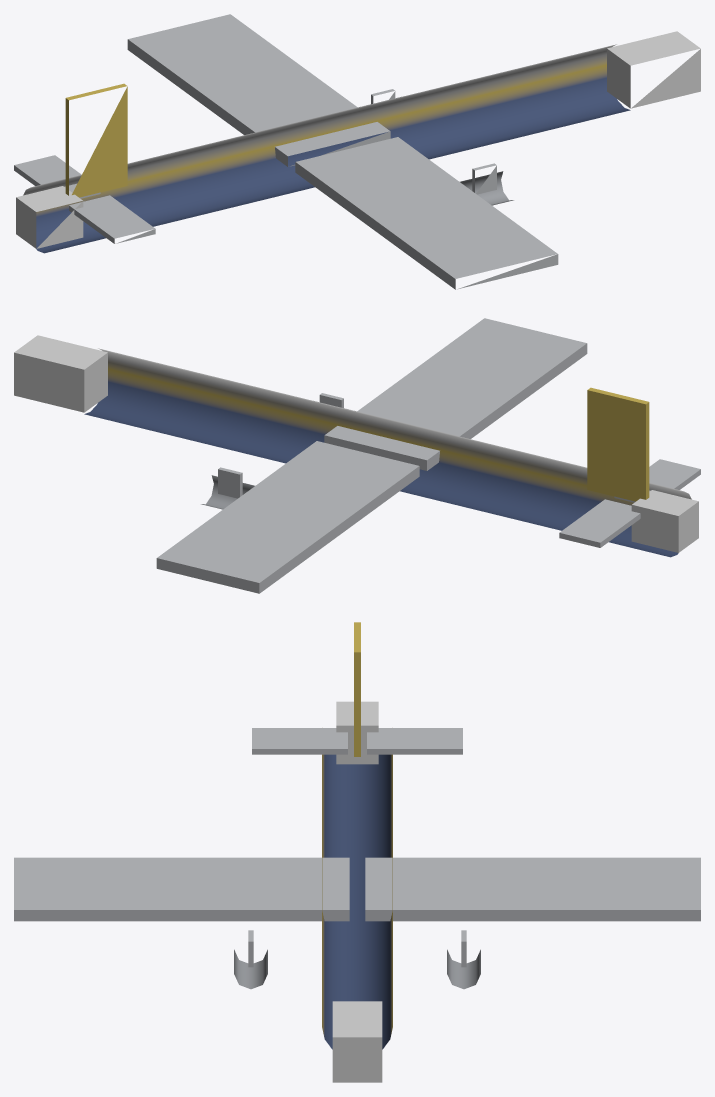
The model's file is narrow.glb.
3 views of the same model, one above another, from view 1: azimuth 30°, elevation 25°; view 2: azimuth 150°, elevation 25°; view 3: azimuth 270°, elevation 25° (orthographic). The views are drawn at different scales.
Bounding box in the file's own units: 45.2 × 10.38 × 38.7.
